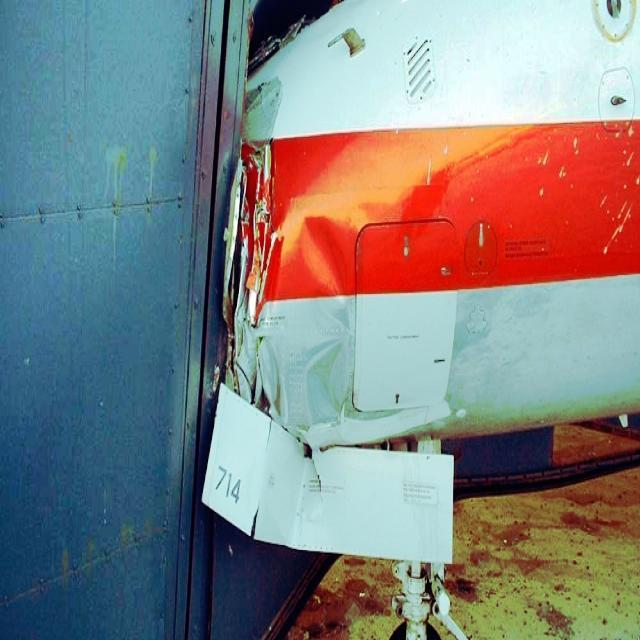dent: (299, 208, 356, 425)
